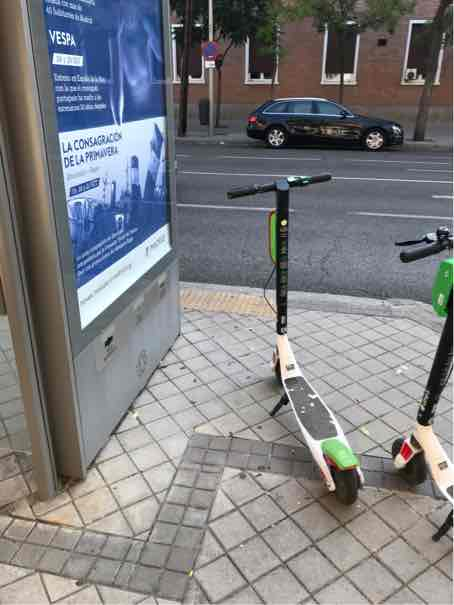scooter: (218, 170, 383, 510)
